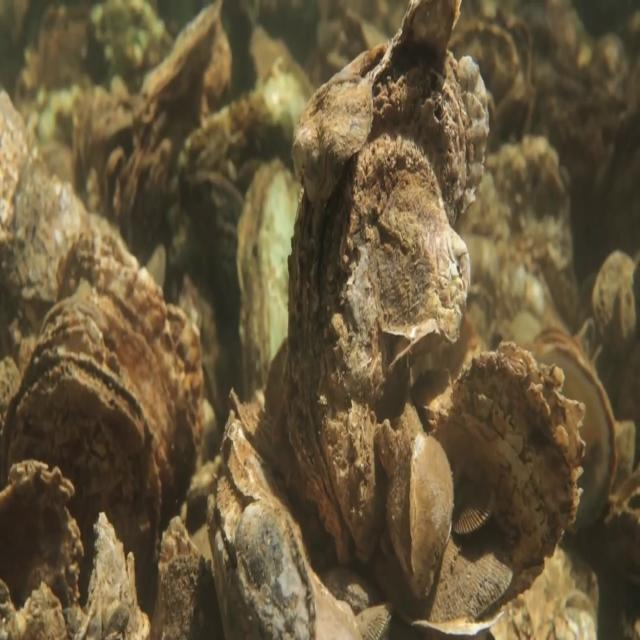Oyster-Closed: (284, 0, 491, 572), (0, 339, 165, 634), (425, 339, 589, 614), (219, 386, 341, 585), (236, 153, 301, 440), (386, 404, 454, 600), (396, 532, 517, 638), (205, 476, 266, 639)
Oyster-Indeterminate: (32, 221, 203, 529), (232, 499, 319, 639), (451, 484, 501, 534)
